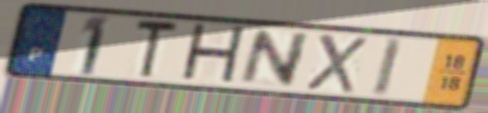1: (79, 14, 113, 78)
H: (177, 21, 249, 89)
I: (369, 35, 407, 99)
N: (236, 29, 315, 89)
T: (133, 17, 182, 81)
X: (302, 31, 370, 96)
